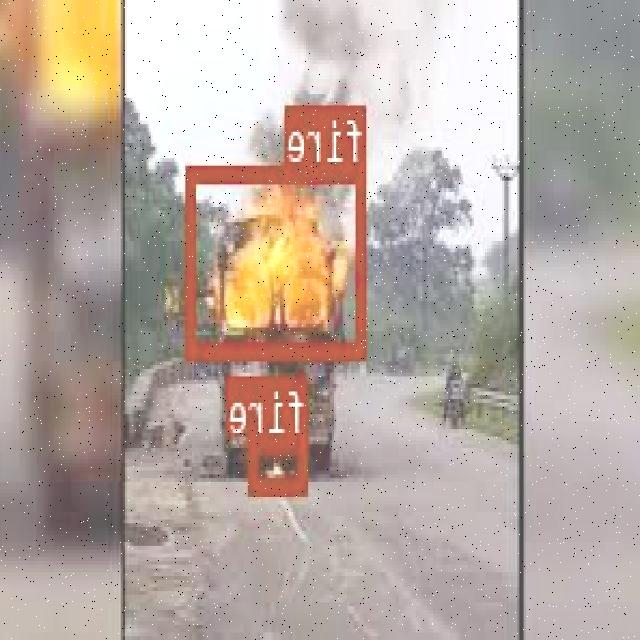fire: (188, 166, 367, 357), (252, 434, 308, 489)
